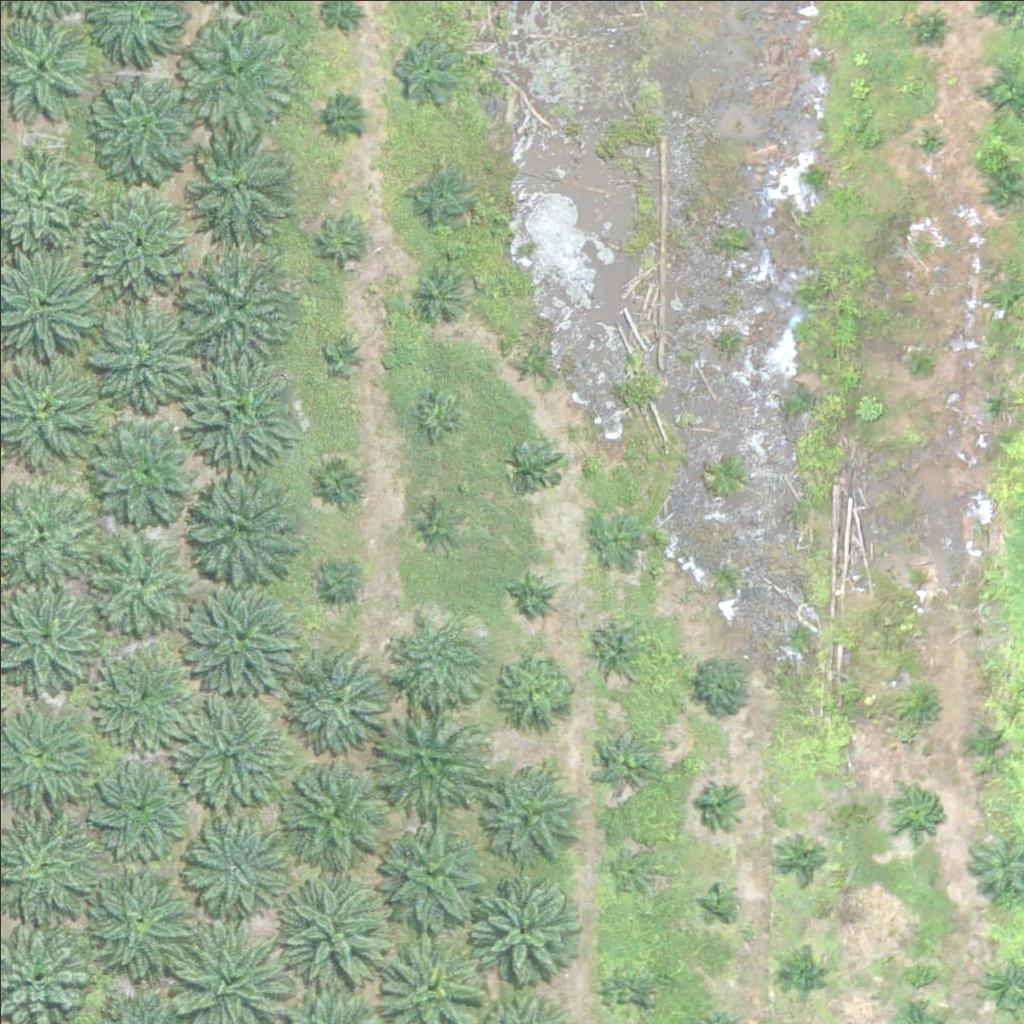Kelapa_Sawit: (273, 869, 398, 995), (170, 696, 283, 810), (177, 10, 290, 124), (284, 641, 397, 754), (180, 352, 293, 465), (179, 250, 292, 363), (179, 135, 292, 248), (92, 641, 205, 754), (87, 66, 200, 179), (279, 752, 391, 866), (371, 696, 483, 810), (375, 812, 487, 926), (83, 864, 195, 977), (183, 575, 295, 688), (183, 463, 295, 576), (86, 414, 198, 527), (79, 529, 191, 642), (92, 748, 192, 849), (180, 808, 280, 909), (82, 195, 182, 296), (86, 309, 186, 410), (471, 879, 571, 979), (483, 753, 583, 853), (494, 642, 581, 730), (394, 615, 481, 703), (388, 36, 463, 111), (583, 615, 646, 678), (688, 656, 751, 719), (590, 725, 652, 788), (405, 261, 467, 324), (406, 164, 468, 227), (496, 563, 558, 626), (779, 831, 829, 882), (695, 777, 745, 828), (315, 216, 365, 267), (961, 718, 1011, 769), (899, 683, 949, 734), (319, 92, 369, 143), (589, 509, 639, 559), (513, 445, 563, 495), (597, 966, 647, 1016), (777, 949, 827, 999), (894, 786, 944, 836), (411, 389, 461, 439), (410, 498, 460, 548), (608, 847, 658, 897), (313, 557, 363, 607), (312, 454, 362, 504), (700, 884, 738, 922), (508, 343, 546, 381), (325, 334, 363, 372), (907, 121, 945, 159), (983, 169, 1021, 207), (979, 384, 1016, 422), (918, 17, 943, 43), (906, 357, 931, 382), (909, 566, 934, 591)
